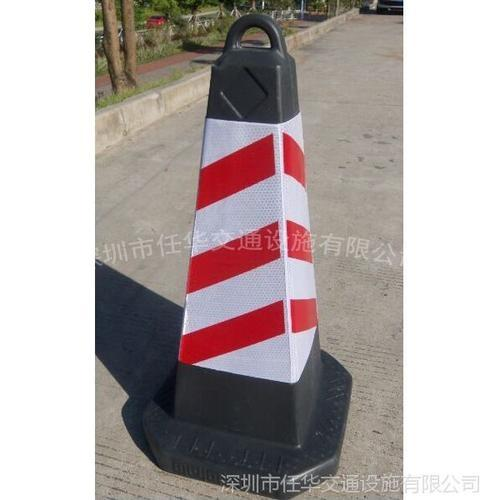cone_barrel: (145, 17, 353, 465)
